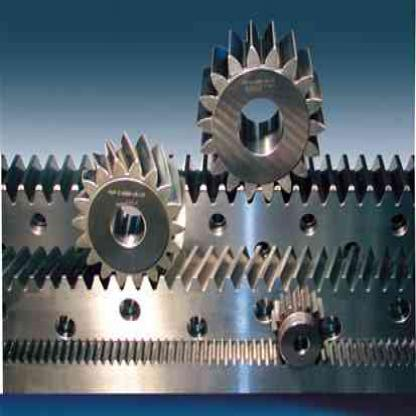FOD: (194, 15, 328, 204), (72, 126, 188, 294)
